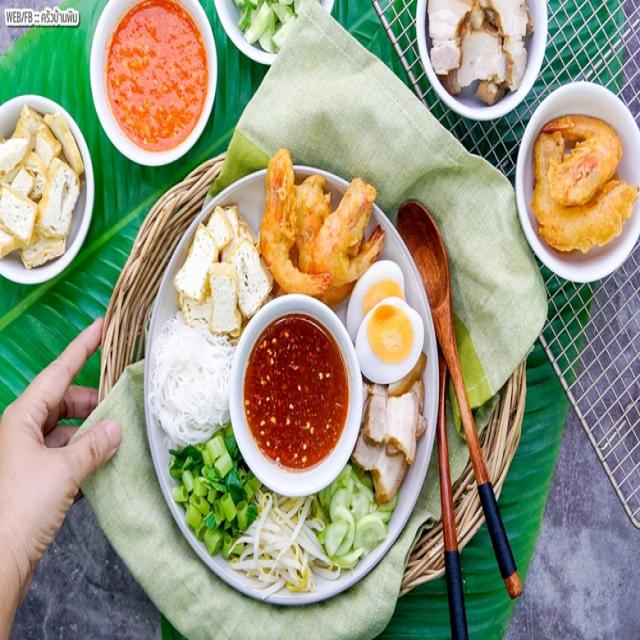Carbohydrate: (148, 310, 233, 441)
Protein: (179, 153, 384, 336), (345, 258, 427, 506)
Taokua: (139, 148, 441, 612)
Vegetable: (169, 434, 395, 594)
